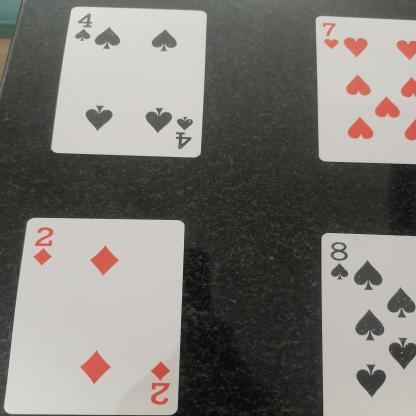2D: (20, 220, 70, 283)
4S: (71, 10, 109, 49)
7H: (318, 18, 354, 52)
8S: (323, 236, 354, 287)
